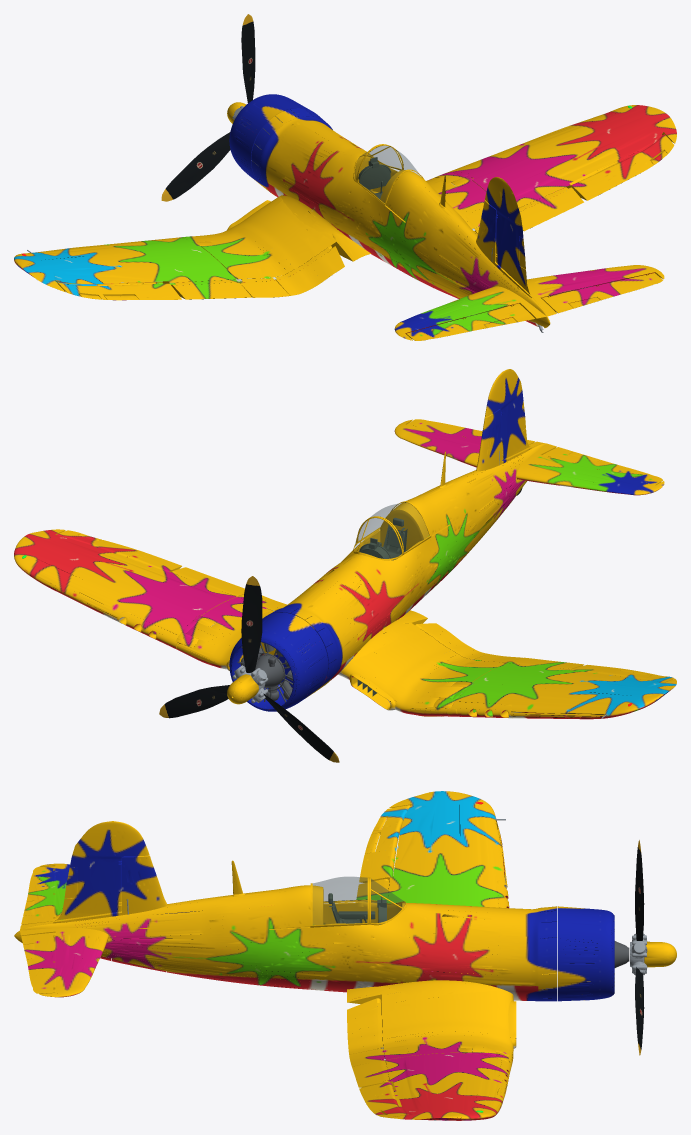
File: f4u_corsair_splash.glb
3 renders of one model, top to bottom at view 1: azimuth 30°, elevation 25°; view 2: azimuth 150°, elevation 25°; view 3: azimuth 270°, elevation 25°, orthographic. The views are drawn at different scales.
Parts seen in each view (by area): view 1: fuselage_core, wing_right_fixed, wing_center_fixed, wing_left_fixed, stabilizer_fixed, elevator, cowl, propeller_rotor, rudder, aileron_right, canopy_glass, flap_left_1 (+6 smaller); view 2: fuselage_core, wing_center_fixed, wing_right_fixed, wing_left_fixed, cowl, propeller_rotor, stabilizer_fixed, rudder, elevator, canopy_glass, engine_face, windshield_glass (+6 smaller); view 3: fuselage_core, wing_left_fixed, wing_center_fixed, wing_right_fixed, cowl, rudder, stabilizer_fixed, elevator, propeller_rotor, canopy_glass, fin_fixed, aileron_left (+7 smaller).
Part boxes in pixels (x1=…): fuselage_core: x1=259, y1=116, x2=550, y2=327; wing_right_fixed: x1=452, y1=105, x2=676, y2=207; wing_center_fixed: x1=179, y1=170, x2=486, y2=279; wing_left_fixed: x1=14, y1=237, x2=235, y2=292; stabilizer_fixed: x1=394, y1=265, x2=664, y2=340; elevator: x1=406, y1=273, x2=662, y2=340; cowl: x1=229, y1=94, x2=332, y2=195; propeller_rotor: x1=161, y1=14, x2=255, y2=201; rudder: x1=485, y1=177, x2=529, y2=293; aileron_right: x1=570, y1=134, x2=674, y2=200; canopy_glass: x1=358, y1=146, x2=418, y2=202; flap_left_1: x1=275, y1=246, x2=344, y2=295; fuselage_core: x1=260, y1=443, x2=546, y2=687; wing_center_fixed: x1=175, y1=597, x2=506, y2=716; wing_right_fixed: x1=14, y1=529, x2=235, y2=649; wing_left_fixed: x1=446, y1=663, x2=676, y2=719; cowl: x1=229, y1=607, x2=337, y2=711; propeller_rotor: x1=159, y1=576, x2=339, y2=762; stabilizer_fixed: x1=394, y1=419, x2=664, y2=495; rudder: x1=485, y1=369, x2=530, y2=459; elevator: x1=407, y1=419, x2=662, y2=485; canopy_glass: x1=359, y1=502, x2=428, y2=551; engine_face: x1=237, y1=642, x2=292, y2=702; windshield_glass: x1=354, y1=518, x2=401, y2=558; fuselage_core: x1=14, y1=860, x2=541, y2=1001; wing_left_fixed: x1=387, y1=791, x2=509, y2=908; wing_center_fixed: x1=347, y1=980, x2=516, y2=1065; wing_right_fixed: x1=385, y1=1053, x2=511, y2=1120; cowl: x1=538, y1=906, x2=614, y2=1001; rudder: x1=55, y1=821, x2=149, y2=920; stabilizer_fixed: x1=20, y1=863, x2=108, y2=997; elevator: x1=21, y1=866, x2=55, y2=993; propeller_rotor: x1=630, y1=840, x2=676, y2=1055; canopy_glass: x1=313, y1=877, x2=367, y2=924; fin_fixed: x1=53, y1=855, x2=167, y2=923; aileron_left: x1=359, y1=805, x2=410, y2=882.
Size of the model in its own units: 2.78 by 0.7704 by 2.38.
Materials: 15 (6 with a texture image).
